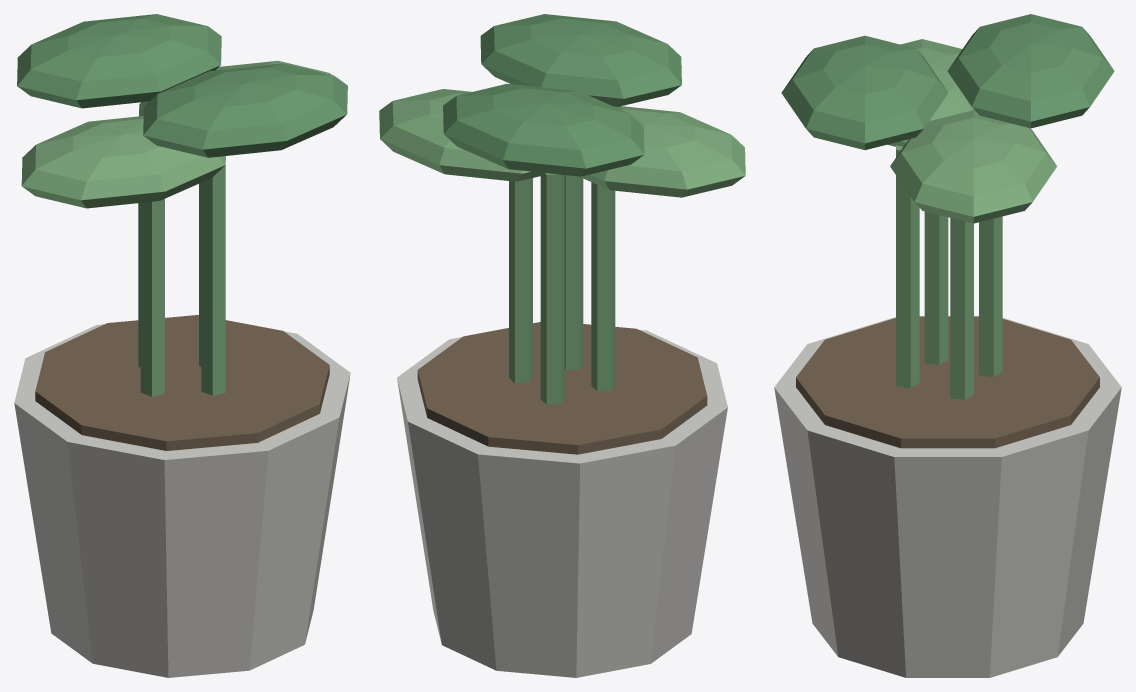
File: pla_costela.glb
3 views of the same model, side by side, from view 1: azimuth 30°, elevation 25°; view 2: azimuth 150°, elevation 25°; view 3: azimuth 270°, elevation 25° (orthographic). The views are drawn at different scales.
Parts seen in each view (by area): view 1: PLA_COSTELA_v01; view 2: PLA_COSTELA_v01; view 3: PLA_COSTELA_v01.
Boxes of the visible parts, bbox=[...] form: PLA_COSTELA_v01: bbox=[14, 14, 350, 677]; PLA_COSTELA_v01: bbox=[379, 14, 745, 677]; PLA_COSTELA_v01: bbox=[774, 14, 1121, 677].
Size of the model in its own units: 0.3729 by 0.5775 by 0.32.
